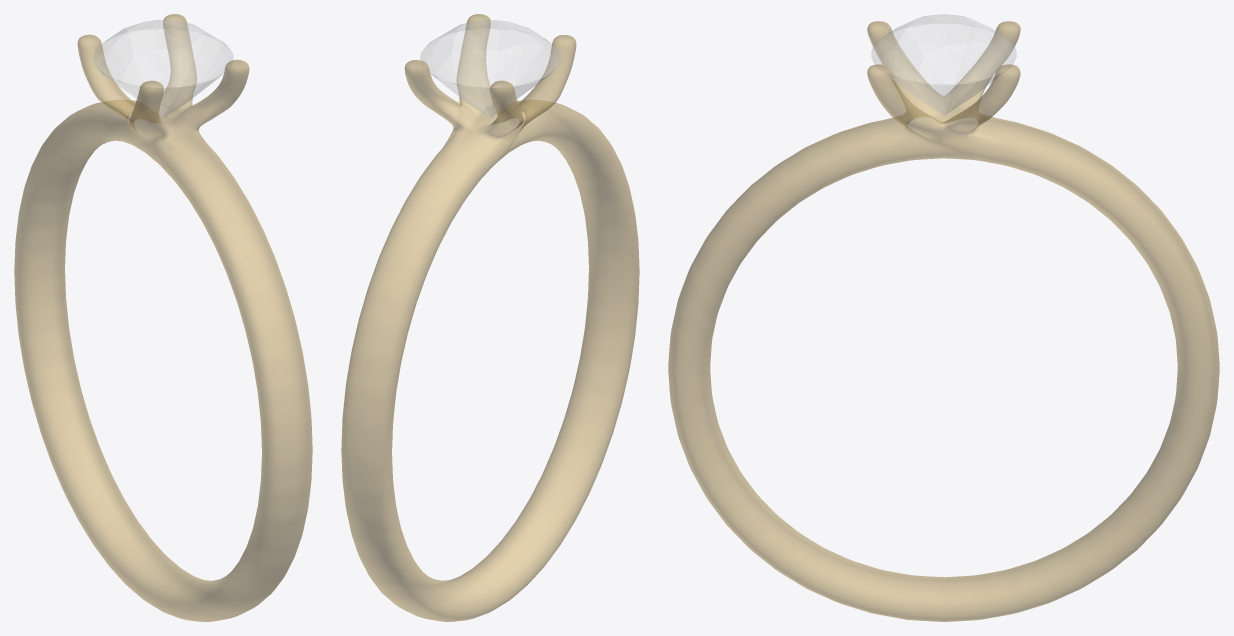
3 renders of one model, left to right at view 1: azimuth 30°, elevation 25°; view 2: azimuth 150°, elevation 25°; view 3: azimuth 270°, elevation 25°, orthographic. The views are drawn at different scales.
Parts seen in each view (by area): view 1: VR009; view 2: VR009; view 3: VR009.
Boxes of the visible parts, bbox=[...] form: VR009: bbox=[14, 14, 312, 621]; VR009: bbox=[341, 14, 639, 621]; VR009: bbox=[668, 14, 1219, 621].
Size of the model in its own units: 0.6111 by 2.72 by 2.32.
